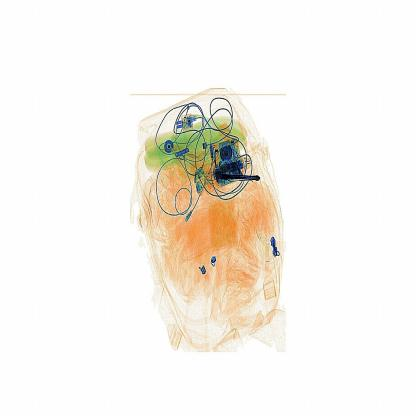knife: (219, 171, 265, 187)
